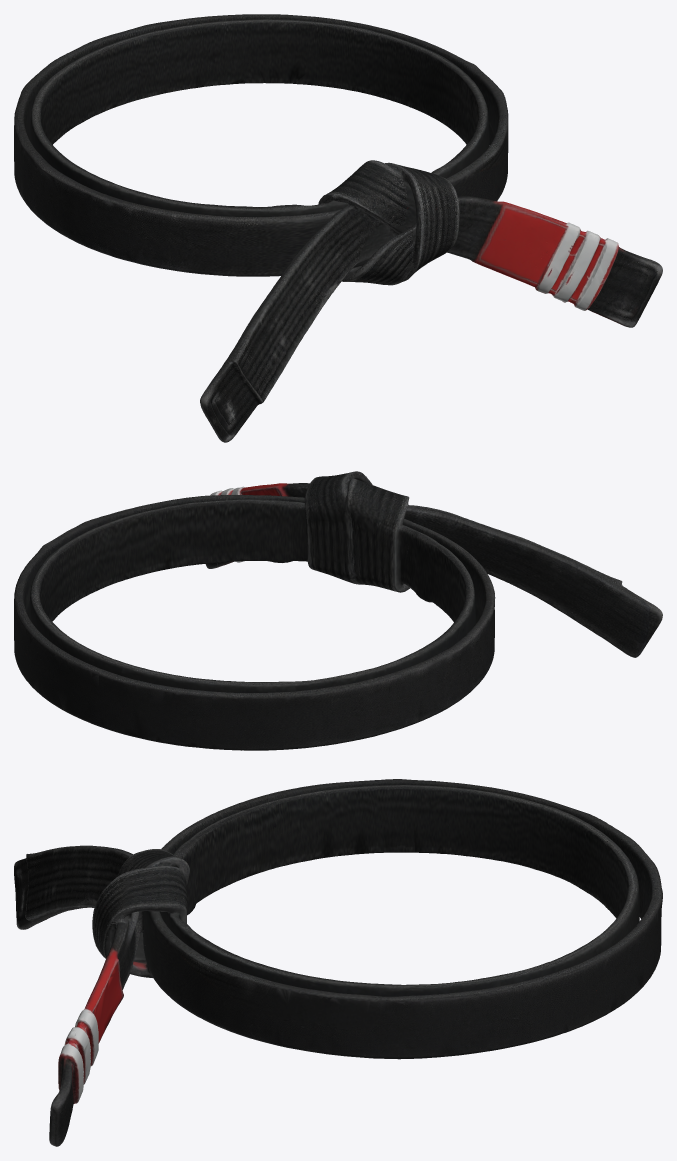
Rendered from cinto.glb.
The picture shows the model from 3 angles, top to bottom: view 1: azimuth 30°, elevation 25°; view 2: azimuth 150°, elevation 25°; view 3: azimuth 270°, elevation 25°; orthographic projection. The views are drawn at different scales.
Visible parts, largest first — view 1: Mesh_0; view 2: Mesh_0; view 3: Mesh_0.
Boxes of the visible parts, bbox=[...] form: Mesh_0: bbox=[14, 14, 662, 442]; Mesh_0: bbox=[14, 471, 662, 750]; Mesh_0: bbox=[14, 779, 662, 1146].
Bounding box in the file's own units: 1.71 × 0.5994 × 1.9.
1 material, 1 textured.
